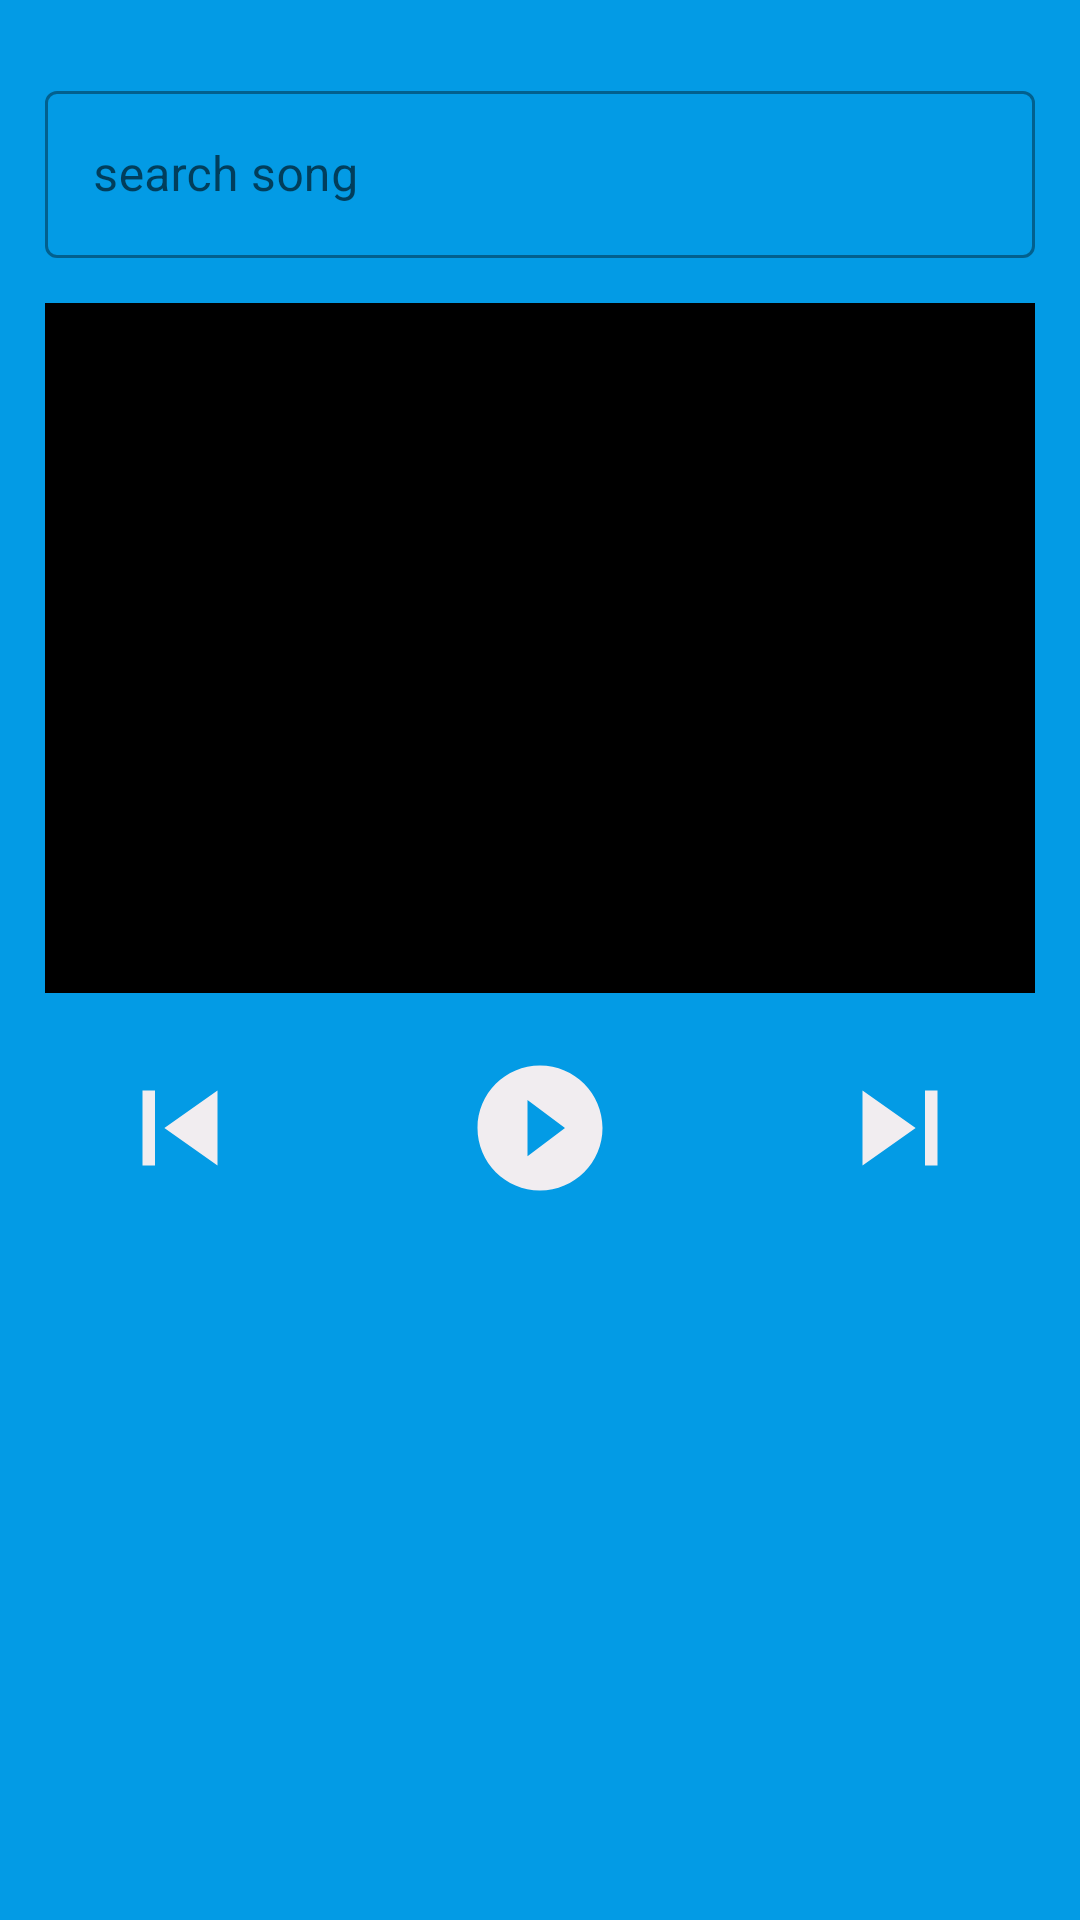

Point at icon controls on the screen. Image size 1080×1920, points as [x,y].
play circle: [540,1128]
skip next: [900,1128]
skip previous: [180,1128]
